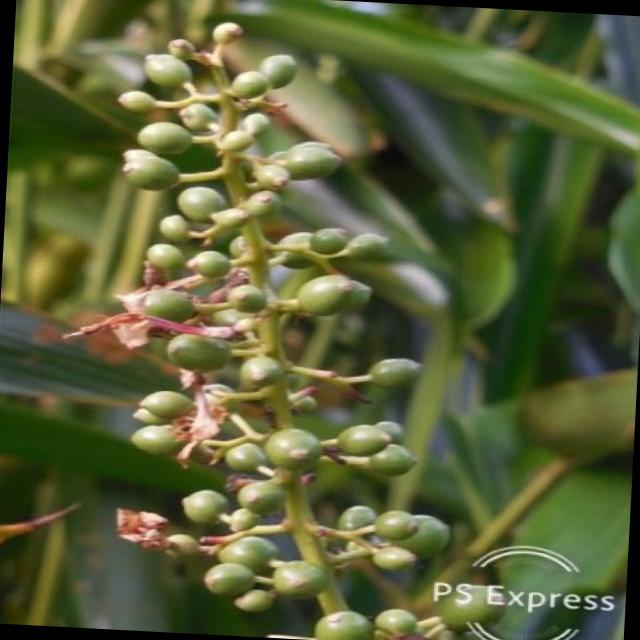Aquatic-Ginger: (92, 16, 478, 640)
